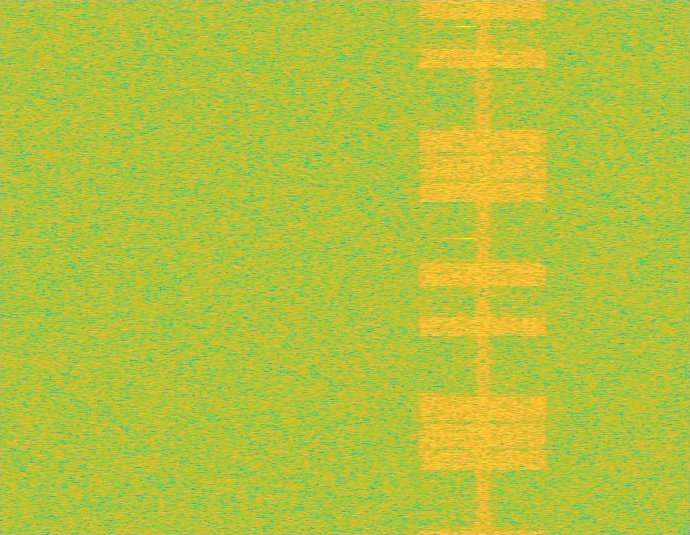DSSS: (474, 0, 492, 534)
LTE: (414, 0, 552, 534)
Radar: (460, 0, 474, 534)
